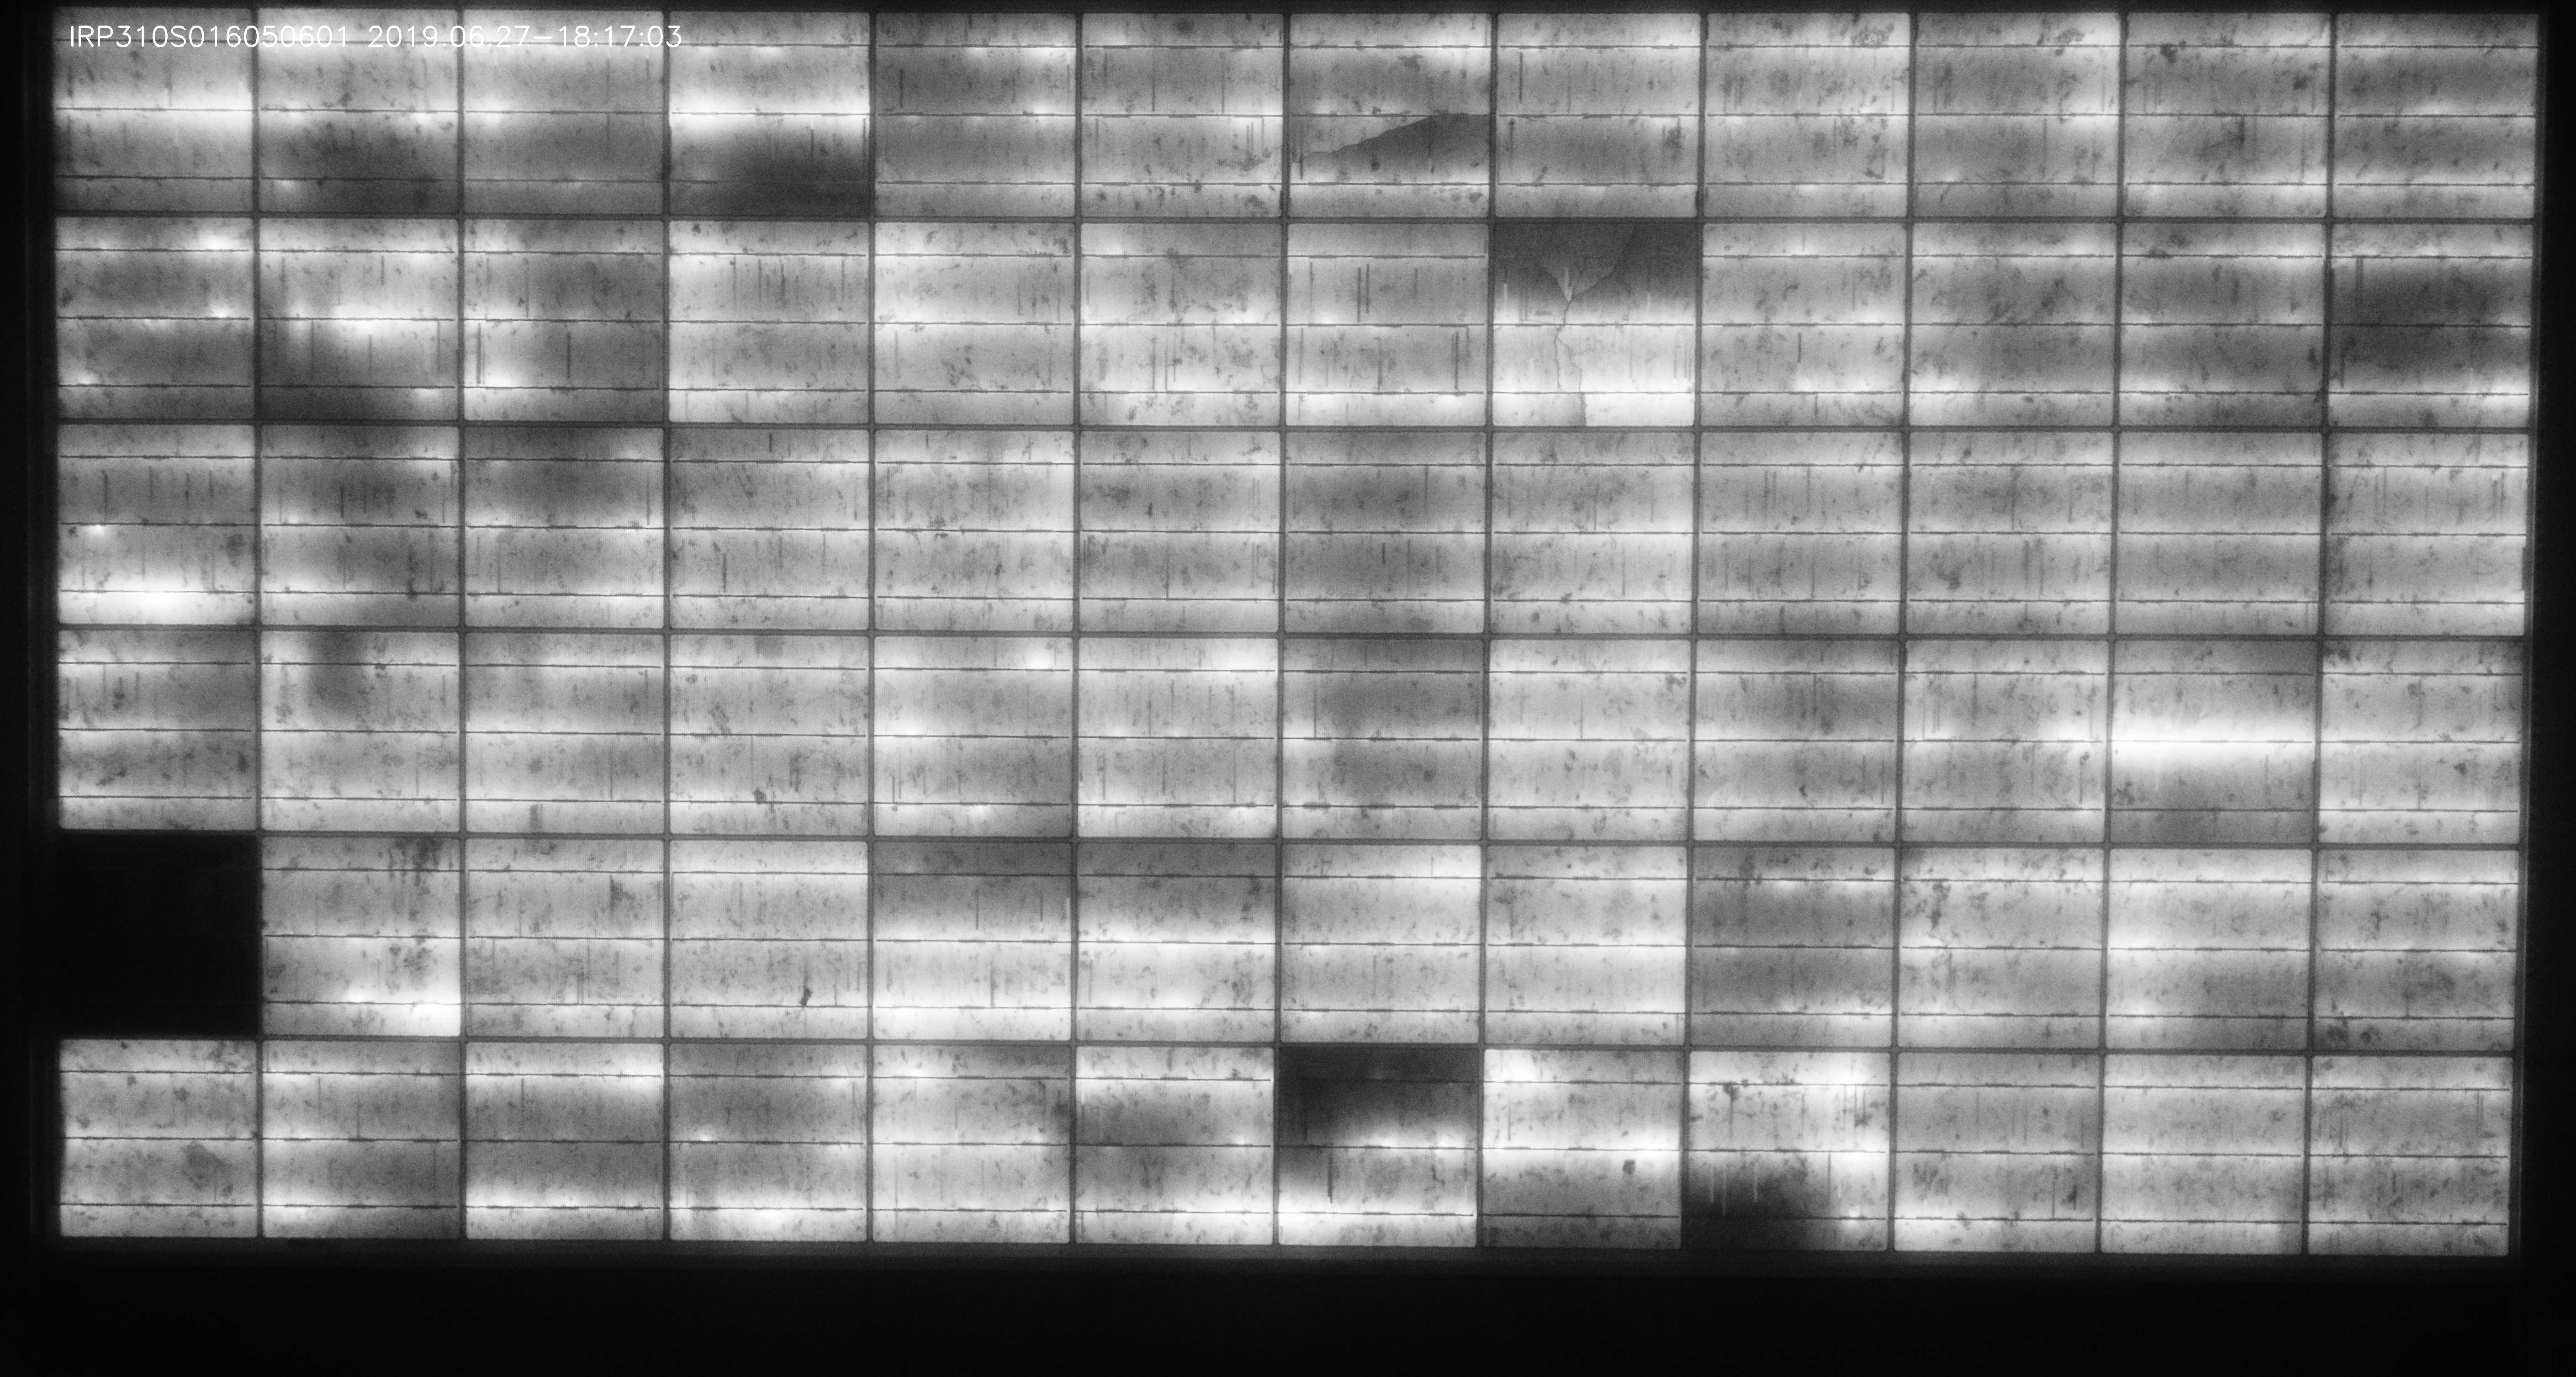5,11: (43, 1017, 281, 1256), (2315, 0, 2549, 232), (36, 0, 269, 228)
